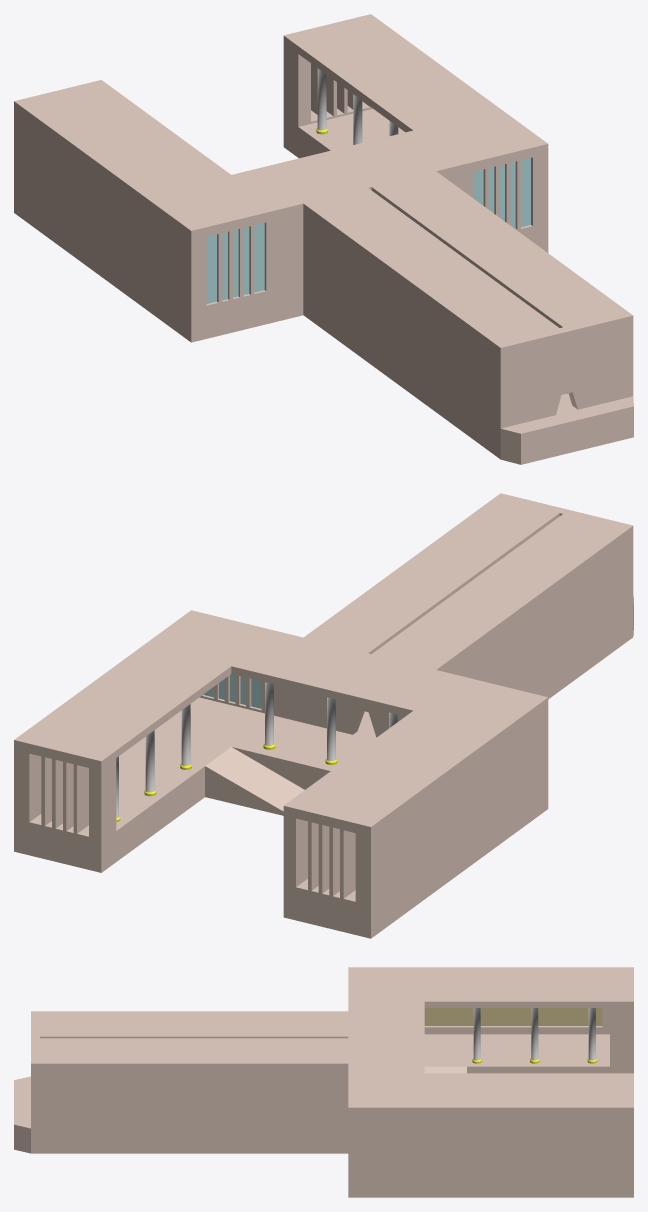
File: TempleEntry.fbx
3 views of the same model, one above another, from view 1: azimuth 30°, elevation 25°; view 2: azimuth 150°, elevation 25°; view 3: azimuth 270°, elevation 25° (orthographic). The views are drawn at different scales.
Parts seen in each view (by area): view 1: TempleEntry, templentry_pillars.001; view 2: TempleEntry, templentry_pillars.001, templentry_pillars; view 3: TempleEntry, templentry_pillars.002.
Boxes of the visible parts, left/top/right/bottom form: TempleEntry: left=14, top=14, right=633, bottom=464; templentry_pillars.001: left=316, top=68, right=398, bottom=144; TempleEntry: left=14, top=493, right=633, bottom=938; templentry_pillars.001: left=116, top=704, right=191, bottom=822; templentry_pillars: left=263, top=682, right=397, bottom=764; TempleEntry: left=14, top=967, right=633, bottom=1197; templentry_pillars.002: left=472, top=1008, right=597, bottom=1063.
Size of the model in its own units: 520 by 155 by 971.
